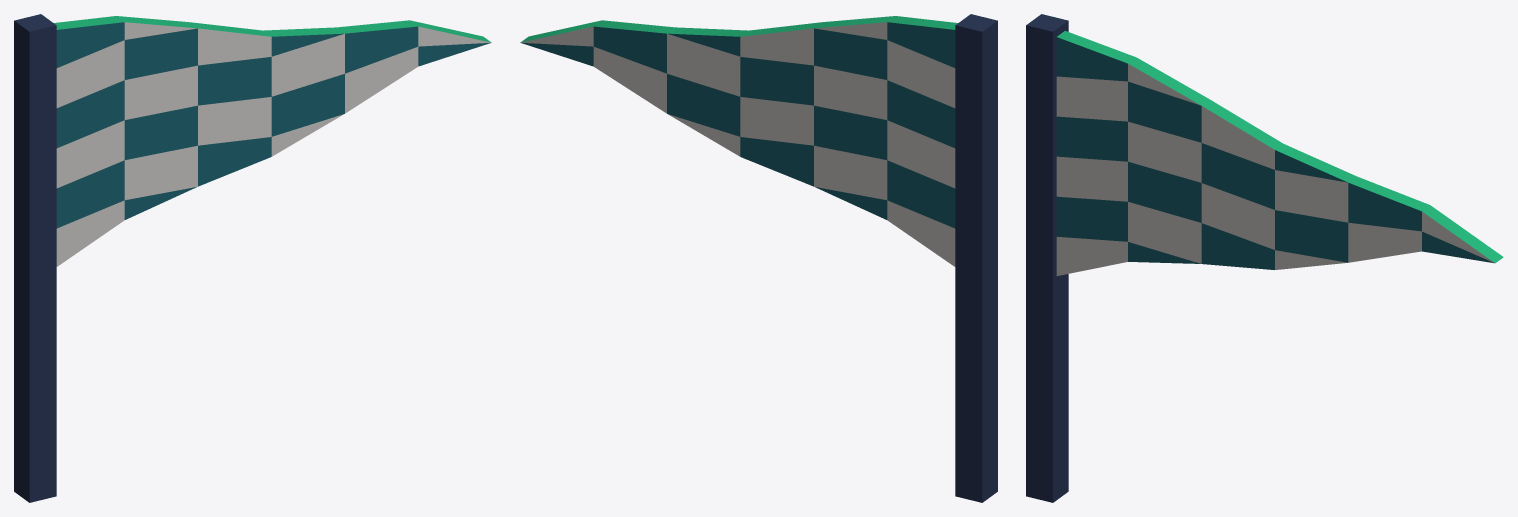
File: flagA.fbx
The picture shows the model from 3 angles, left to right: view 1: azimuth 30°, elevation 25°; view 2: azimuth 150°, elevation 25°; view 3: azimuth 330°, elevation 25°; orthographic projection.
Parts seen in each view (by area): view 1: flagA; view 2: flagA; view 3: flagA.
Part boxes in pixels (box(x1,y1,x2,y2)): flagA: box(14, 14, 491, 502); flagA: box(520, 14, 997, 502); flagA: box(1026, 14, 1503, 502).
Bounding box in the file's own units: 148 × 143 × 8.47.
Materials: 1 (1 with a texture image).
